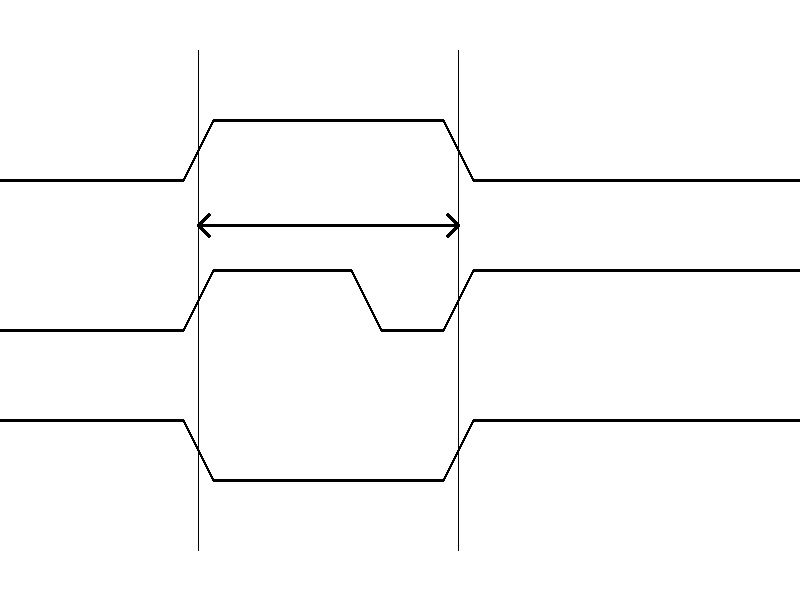double_arrow: (198, 210, 458, 240)
